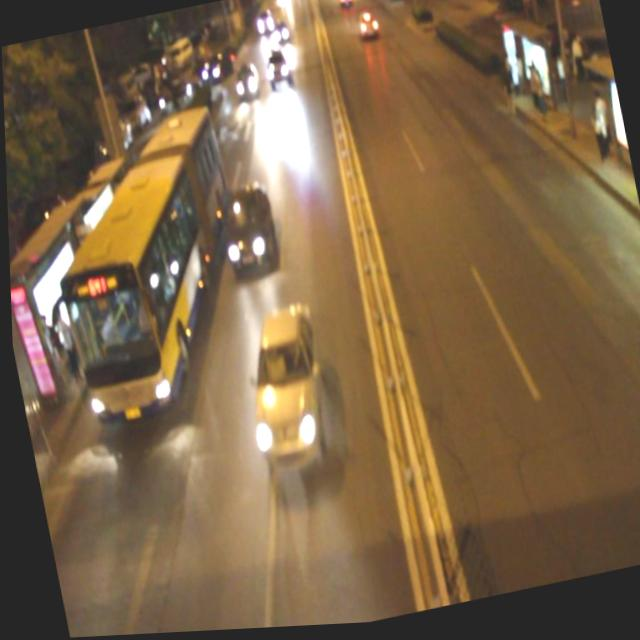car: (229, 302, 337, 477), (213, 179, 282, 284), (230, 60, 264, 106), (260, 49, 294, 94), (354, 10, 380, 44)
van: (26, 102, 254, 427)
